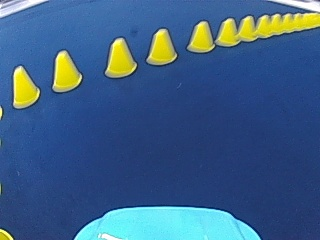cone: (50, 48, 82, 92), (103, 36, 137, 77), (11, 63, 40, 107), (145, 27, 177, 65), (187, 20, 214, 52), (214, 18, 239, 47), (236, 15, 255, 40), (254, 14, 272, 37), (270, 13, 281, 30)
